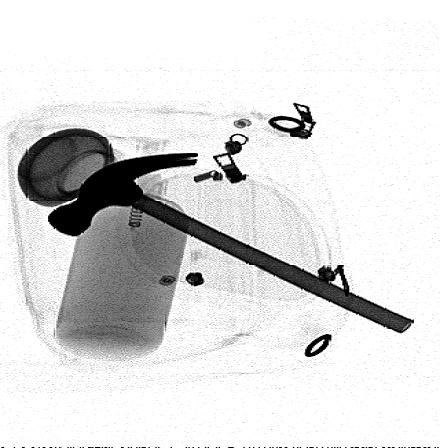Hammer: (47, 152, 413, 333)
